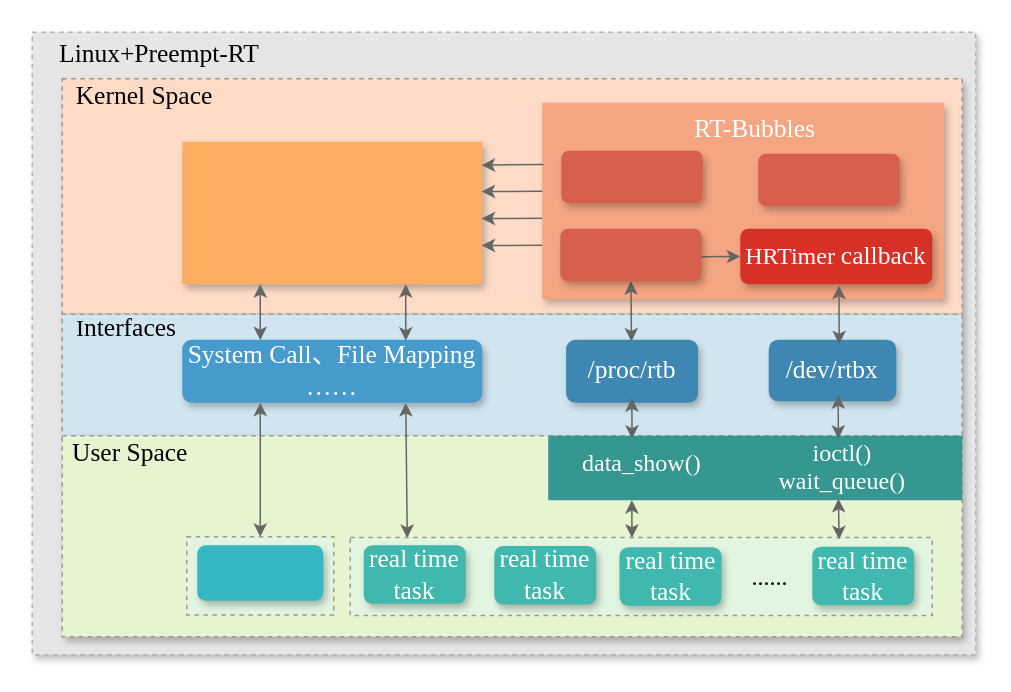
The diagram is 1011 pixels wide and 692 high, and some of its shapes have lost their labels. The centre of each missing label's shape, as x and y in pixels:
"Configuration Module" goes at [633,178].
"Kernel function" goes at [333,214].
"Log Module" goes at [830,181].
"Monitor Module" goes at [632,256].
"non-real time task" goes at [261,574].
